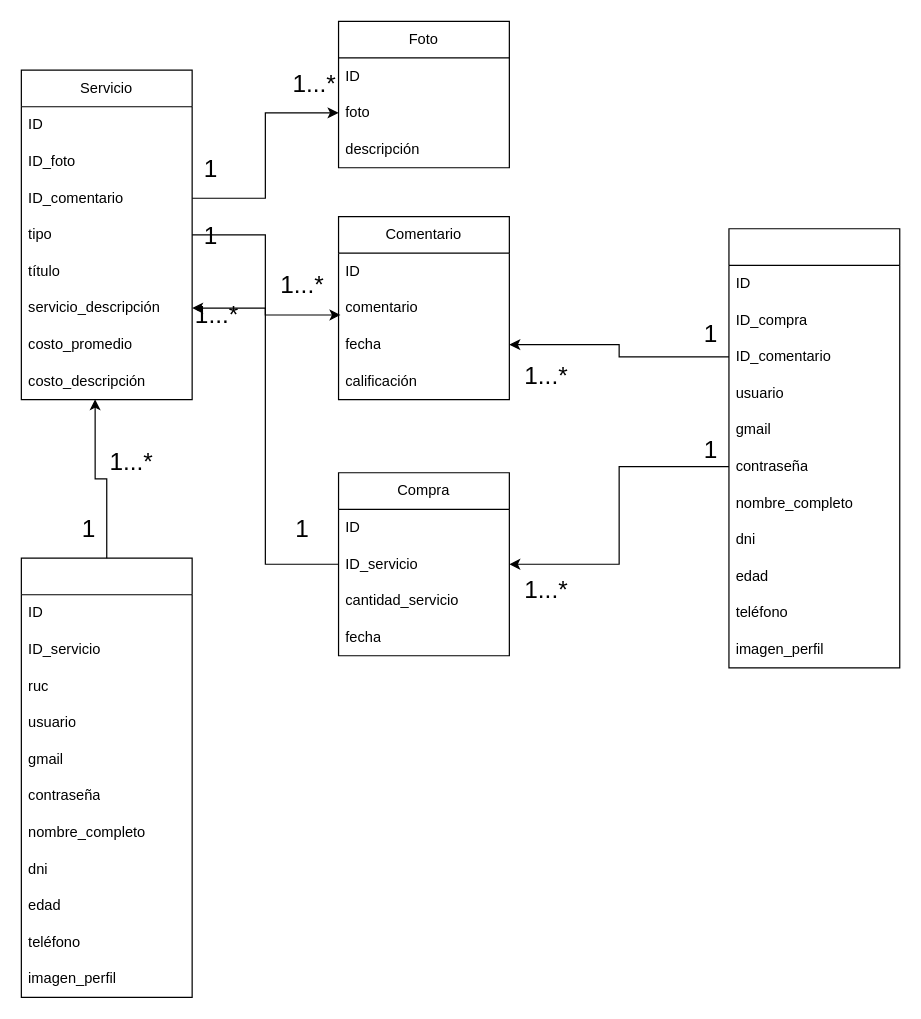
Image size: 921x1019. Some labels were removed from this diagram. Here are the shapes that lost their labels. From the top down, the box of each, then its label:
(728, 228, 900, 668): Comprador
(20, 557, 192, 997): Vendedor
